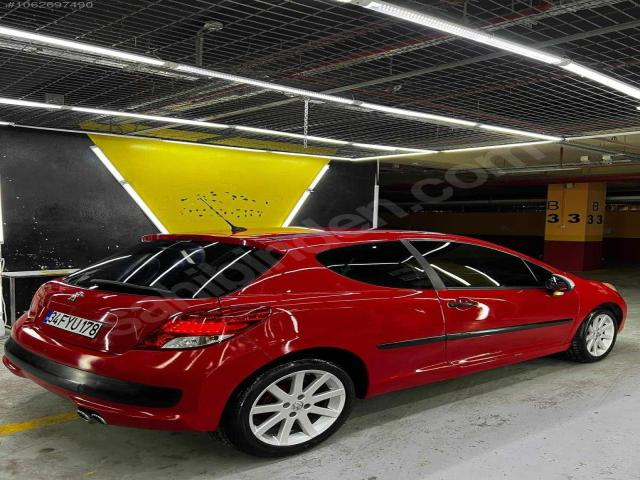plaka: (43, 311, 103, 338)
